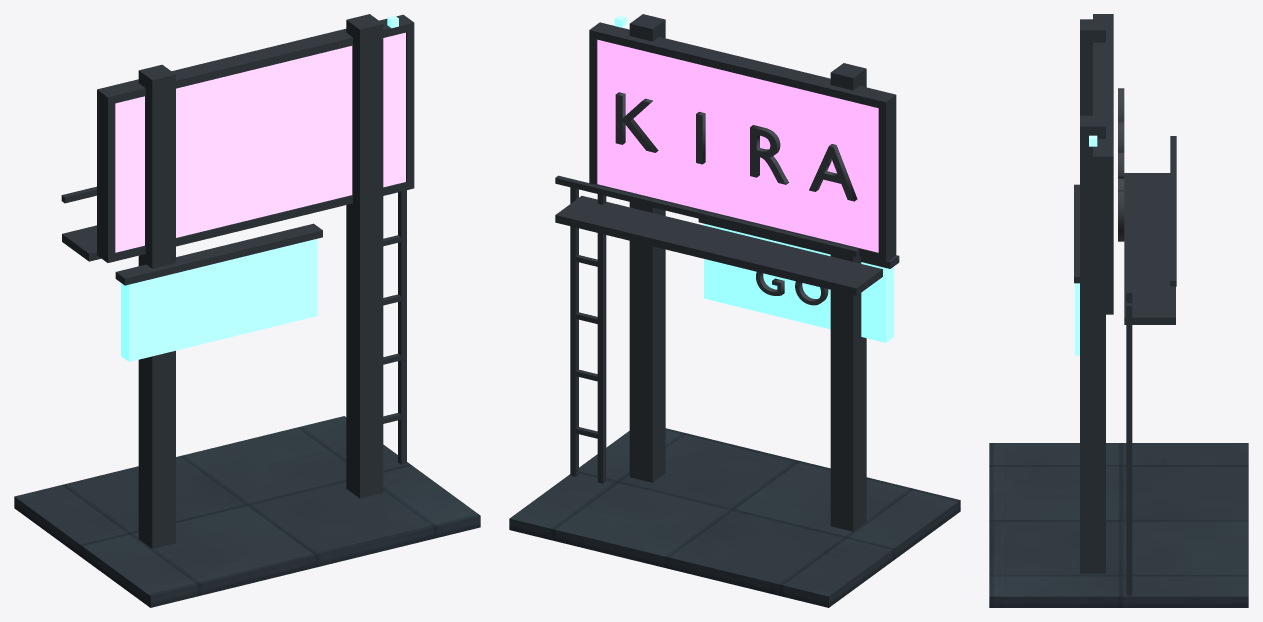
Rendered from synthwave-billboard.glb.
The picture shows the model from 3 angles, left to right: view 1: azimuth 30°, elevation 25°; view 2: azimuth 150°, elevation 25°; view 3: azimuth 270°, elevation 25°; orthographic projection. The views are drawn at different scales.
Parts seen in each view (by area): view 1: Bb_Frame, Pad, BbPanel, BbDeck2; view 2: Bb_Frame, Pad, BbPanel, BbDeck2, Bb_Door; view 3: Pad, Bb_Frame, Bb_Door, BbDeck2.
Part boxes in pixels (box(x1,y1,x2,y2)): Bb_Frame: box(61, 14, 414, 548); Pad: box(14, 416, 480, 607); BbPanel: box(115, 32, 405, 252); BbDeck2: box(121, 238, 317, 361); Bb_Frame: box(555, 14, 899, 531); Pad: box(509, 428, 960, 607); BbPanel: box(597, 39, 878, 252); BbDeck2: box(704, 223, 894, 342); Bb_Door: box(615, 92, 857, 305); Pad: box(989, 443, 1248, 607); Bb_Frame: box(1074, 14, 1176, 595); Bb_Door: box(1118, 88, 1124, 241); BbDeck2: box(1075, 283, 1079, 355).
Size of the model in its own units: 0.7 by 0.974 by 0.5.
Materials: 6 (1 with a texture image).
